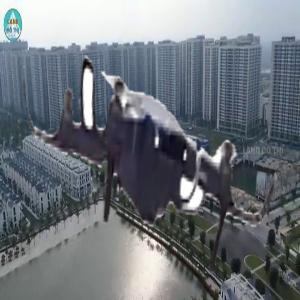drone: (6, 18, 288, 300)
